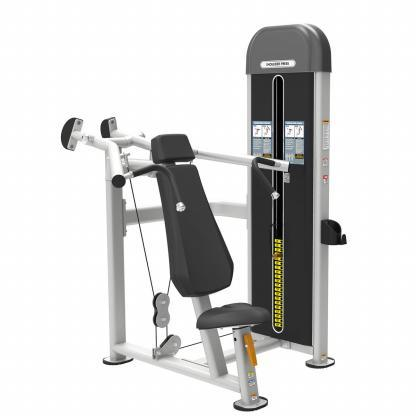shoulder press machine: (55, 20, 345, 408)
